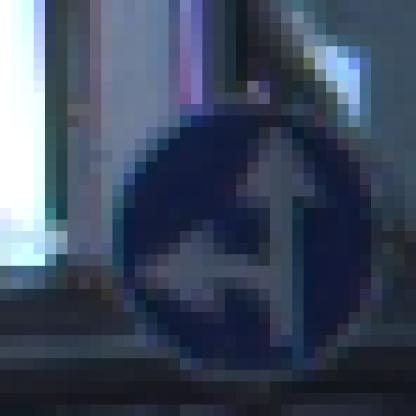Straight or Left: (69, 71, 350, 360)
